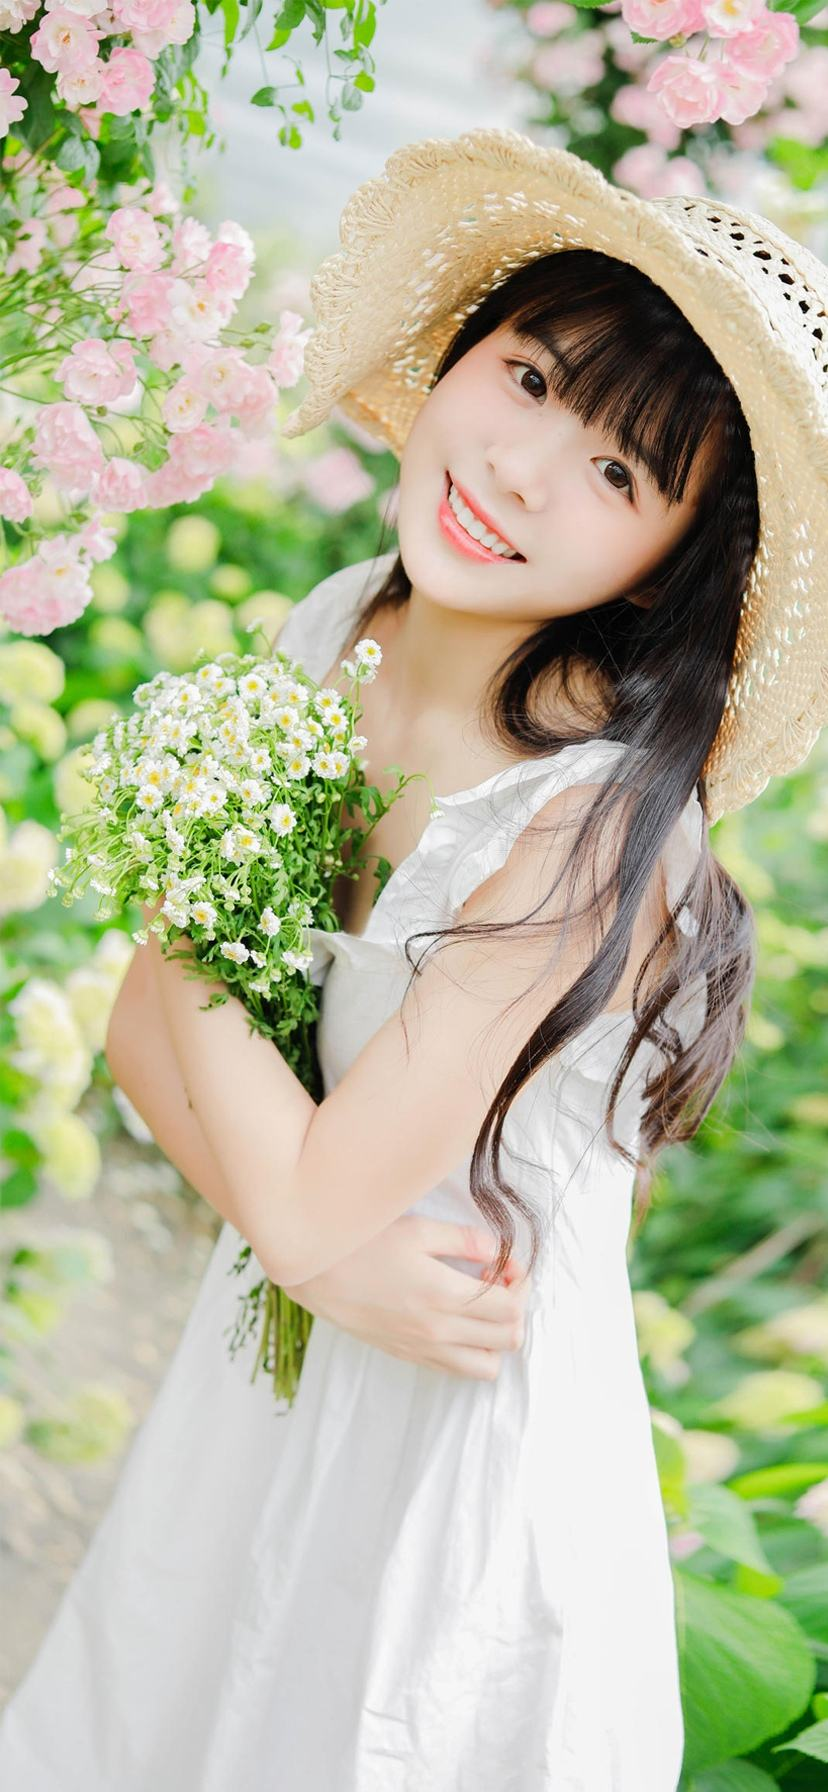person: (132, 178, 828, 1792)
